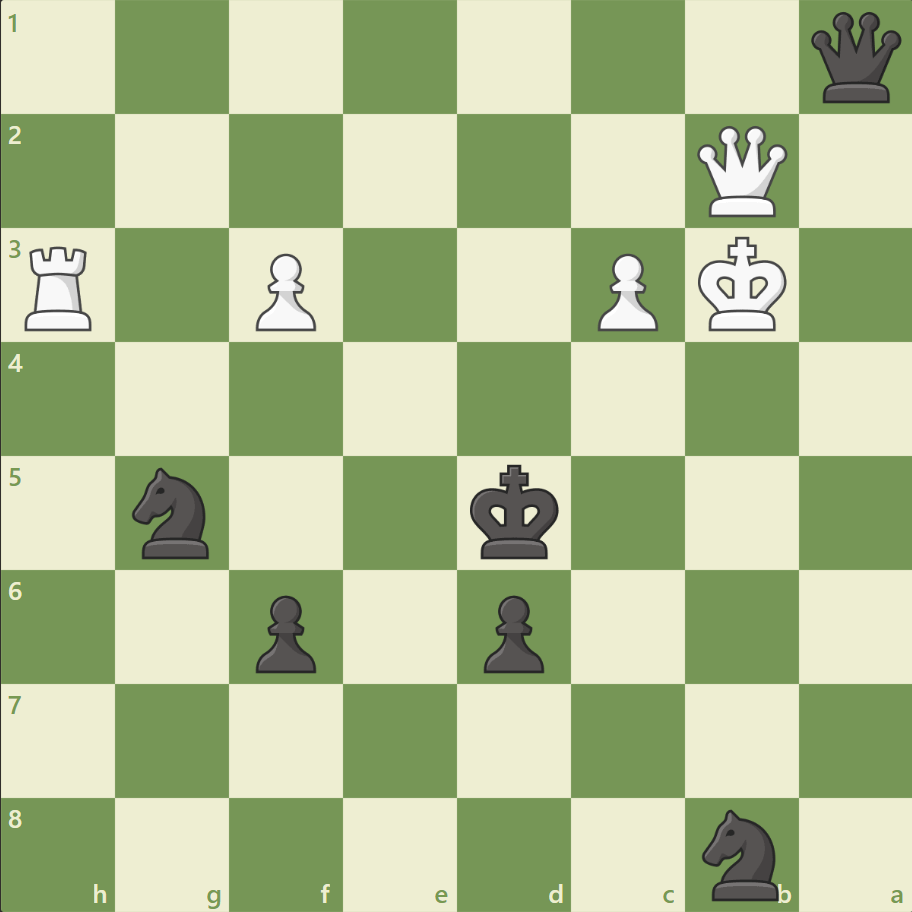K: (692, 231, 792, 339)
P: (247, 246, 322, 337), (588, 246, 662, 337)
Q: (691, 122, 790, 222)
R: (19, 239, 102, 336)
k: (465, 458, 565, 566)
n: (124, 461, 222, 564), (692, 802, 789, 904)
p: (474, 586, 549, 677), (247, 586, 322, 677)
q: (805, 9, 904, 108)
